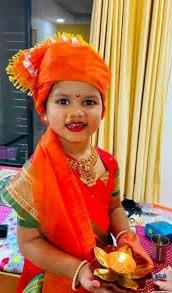Human: (7, 38, 151, 283)
